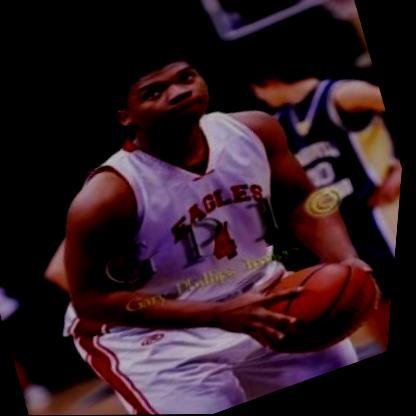basketball: (244, 243, 400, 368)
